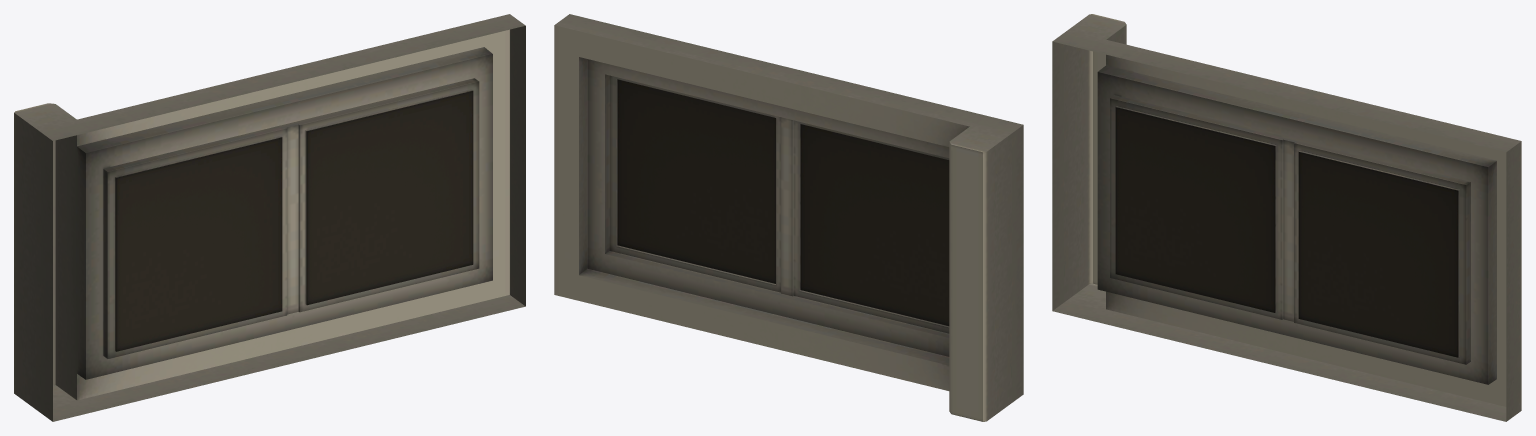
File: props_coalmines_window3.glb
3 renders of one model, left to right at view 1: azimuth 30°, elevation 25°; view 2: azimuth 150°, elevation 25°; view 3: azimuth 330°, elevation 25°, orthographic. The views are drawn at different scales.
Parts seen in each view (by area): view 1: models/props_coalmines/window3; view 2: models/props_coalmines/window3; view 3: models/props_coalmines/window3.
Boxes of the visible parts, x1=… form: models/props_coalmines/window3: x1=14, y1=14, x2=525, y2=421; models/props_coalmines/window3: x1=554, y1=14, x2=1023, y2=421; models/props_coalmines/window3: x1=1052, y1=14, x2=1521, y2=421.
Size of the model in its own units: 55.5 by 31.5 by 8.13.
Materials: 1 (1 with a texture image).
